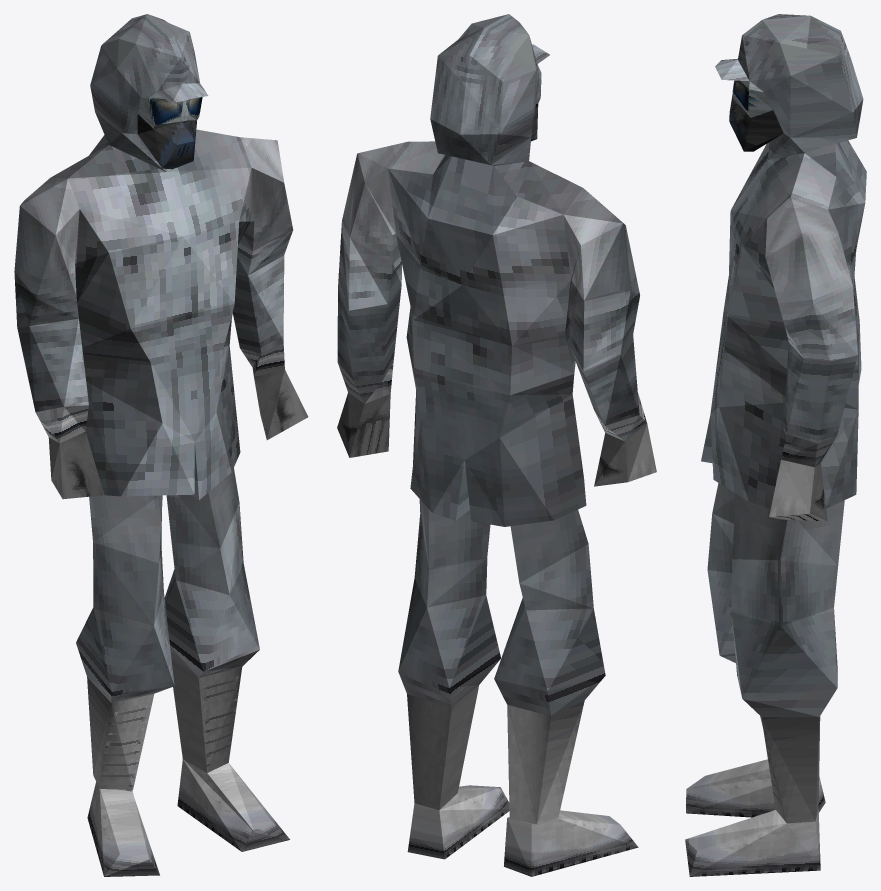
Rendered from primary_033.glb.
The picture shows the model from 3 angles, left to right: view 1: azimuth 30°, elevation 25°; view 2: azimuth 150°, elevation 25°; view 3: azimuth 270°, elevation 25°; orthographic projection. The views are drawn at different scales.
Visible parts, largest first — view 1: Object; view 2: Object; view 3: Object.
Part boxes in pixels (x1,y1,x2,y2): Object: (14, 14, 308, 876); Object: (337, 14, 656, 876); Object: (685, 14, 866, 876).
Bounding box in the file's own units: 0.7534 × 2.08 × 0.4173.
Materials: 71 (71 with a texture image).
